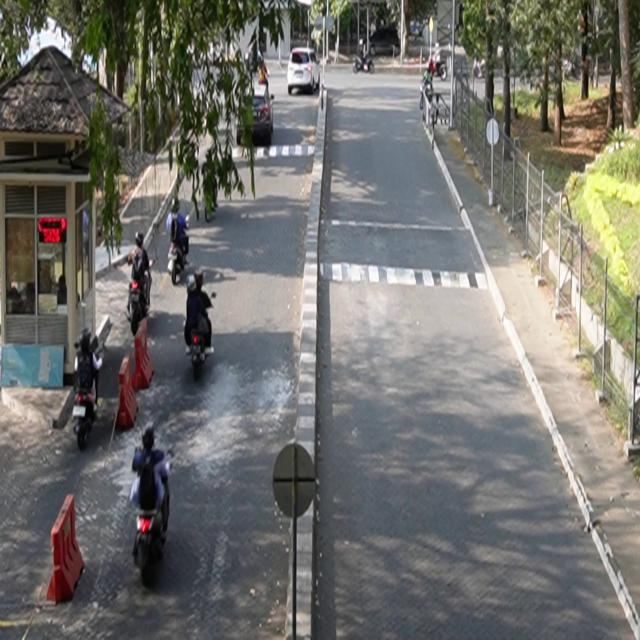car: (288, 47, 321, 96)
